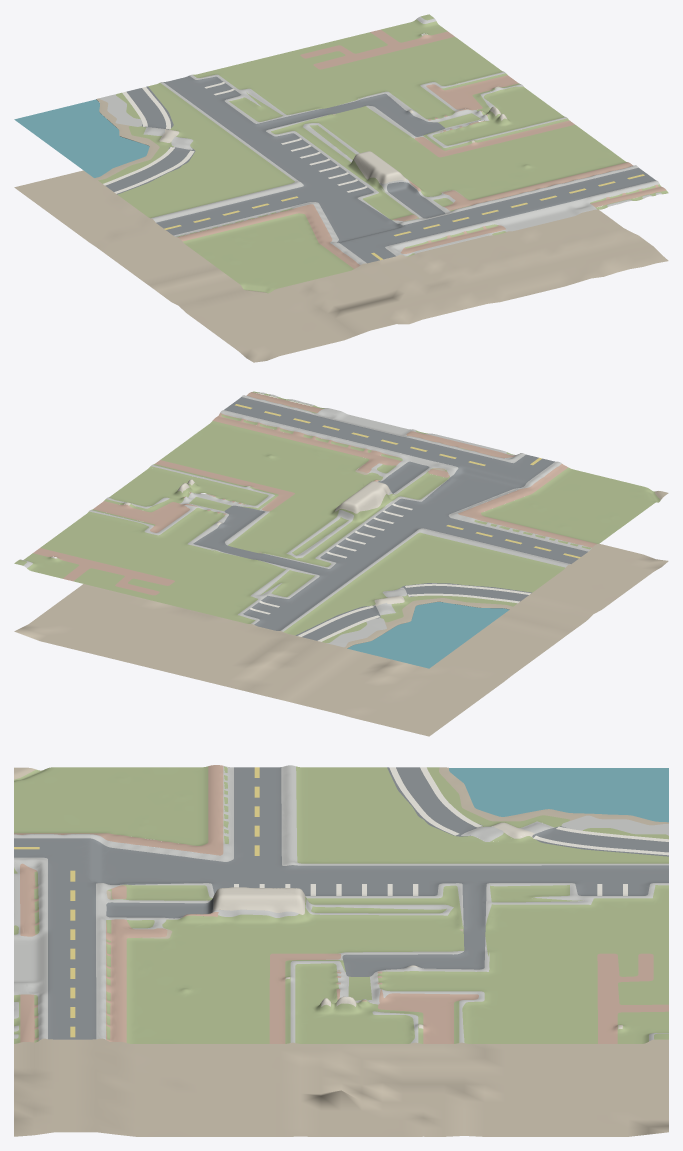
The picture shows the model from 3 angles, top to bottom: view 1: azimuth 30°, elevation 25°; view 2: azimuth 150°, elevation 25°; view 3: azimuth 270°, elevation 25°; orthographic projection. The views are drawn at different scales.
Parts seen in each view (by area): view 1: s_-7_2__grass, s_-7_2__soil, s_-7_2__asphalt, s_-7_2__stone_paving, s_-7_2__brick_paving, s_-7_2__water, s_-7_2__white_marking, s_-7_2__paving, s_-7_2__yellow_marking; view 2: s_-7_2__grass, s_-7_2__soil, s_-7_2__asphalt, s_-7_2__stone_paving, s_-7_2__brick_paving, s_-7_2__water, s_-7_2__white_marking, s_-7_2__paving, s_-7_2__yellow_marking; view 3: s_-7_2__grass, s_-7_2__soil, s_-7_2__asphalt, s_-7_2__stone_paving, s_-7_2__brick_paving, s_-7_2__water, s_-7_2__paving, s_-7_2__white_marking, s_-7_2__yellow_marking.
Boxes of the visible parts, x1=… form: s_-7_2__grass: x1=98, y1=14, x2=668, y2=293; s_-7_2__soil: x1=14, y1=98, x2=668, y2=362; s_-7_2__asphalt: x1=105, y1=75, x2=655, y2=263; s_-7_2__stone_paving: x1=99, y1=16, x2=661, y2=264; s_-7_2__brick_paving: x1=177, y1=29, x2=666, y2=268; s_-7_2__water: x1=14, y1=99, x2=149, y2=177; s_-7_2__white_marking: x1=103, y1=82, x2=367, y2=193; s_-7_2__paving: x1=159, y1=33, x2=506, y2=183; s_-7_2__yellow_marking: x1=164, y1=174, x2=644, y2=260; s_-7_2__grass: x1=14, y1=391, x2=660, y2=642; s_-7_2__soil: x1=14, y1=464, x2=668, y2=736; s_-7_2__asphalt: x1=193, y1=397, x2=587, y2=640; s_-7_2__stone_paving: x1=20, y1=392, x2=591, y2=647; s_-7_2__brick_paving: x1=33, y1=392, x2=596, y2=595; s_-7_2__water: x1=347, y1=602, x2=509, y2=668; s_-7_2__white_marking: x1=250, y1=503, x2=530, y2=641; s_-7_2__paving: x1=51, y1=479, x2=404, y2=606; s_-7_2__yellow_marking: x1=235, y1=404, x2=580, y2=558; s_-7_2__grass: x1=14, y1=766, x2=668, y2=1043; s_-7_2__soil: x1=14, y1=767, x2=668, y2=1136; s_-7_2__asphalt: x1=14, y1=767, x2=668, y2=1039; s_-7_2__stone_paving: x1=14, y1=765, x2=668, y2=1043; s_-7_2__brick_paving: x1=14, y1=765, x2=668, y2=1043; s_-7_2__water: x1=449, y1=768, x2=668, y2=822; s_-7_2__paving: x1=213, y1=822, x2=622, y2=1029; s_-7_2__white_marking: x1=234, y1=767, x2=668, y2=895; s_-7_2__yellow_marking: x1=14, y1=767, x2=259, y2=1037.
Size of the model in its own units: 128 by 24.51 by 128.
